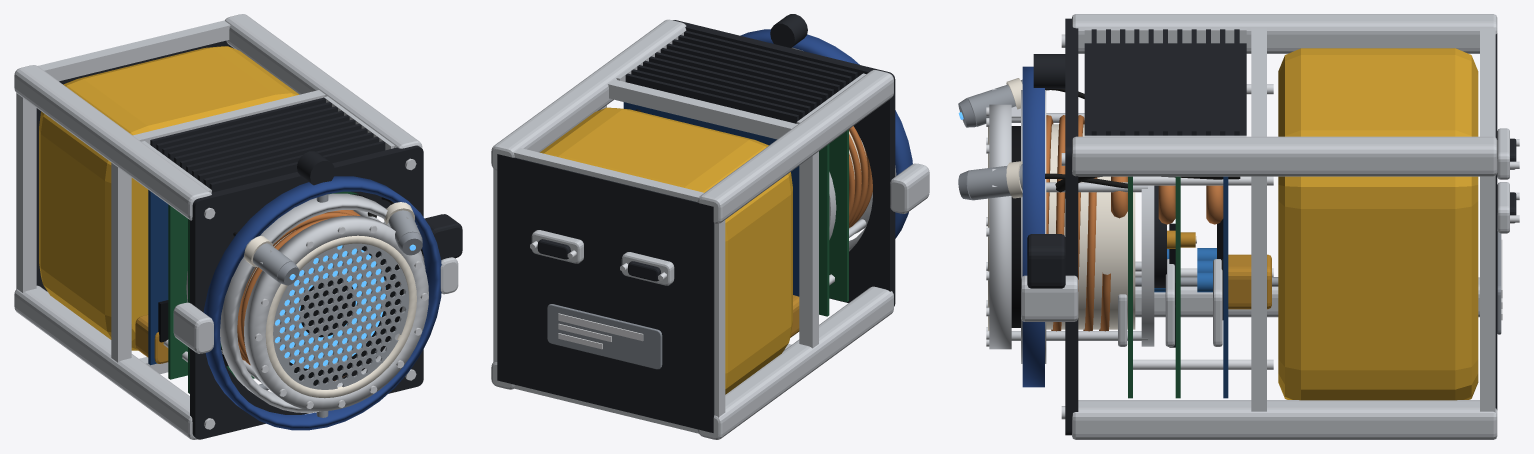
The model's file is prop-ion-large.glb.
3 views of the same model, side by side, from view 1: azimuth 30°, elevation 25°; view 2: azimuth 150°, elevation 25°; view 3: azimuth 270°, elevation 25° (orthographic). The views are drawn at different scales.
Parts seen in each view (by area): view 1: iodine-tank, front-plate, screen-grid, radiator-fins, gimbal-outer, flange, rail--11, rail--1-1, rail-11, gimbal-inner, frame-y-0-1, frame-y-1-1 (+18 smaller); view 2: back-plate, iodine-tank, radiator-fins, front-plate, rail--11, rail--1-1, rail-11, frame-y-1-1, frame-x-11, label-plate, ppu-board-2-board, frame-y-0-1 (+15 smaller); view 3: iodine-tank, rail-11, rail-1-1, rail--11, radiator-base, radiator-fins, discharge-chamber, gimbal-outer, flange, front-plate, frame-y-01, frame-y-11 (+26 smaller).
Boxes of the visible parts, x1,y1,x2,y2 form: iodine-tank: [39, 46, 299, 350]; front-plate: [190, 145, 423, 439]; screen-grid: [273, 243, 408, 389]; radiator-fins: [150, 97, 385, 192]; gimbal-outer: [203, 176, 441, 430]; flange: [244, 215, 428, 411]; rail--11: [14, 65, 211, 220]; rail--1-1: [14, 285, 197, 439]; rail-11: [225, 14, 422, 148]; gimbal-inner: [220, 193, 425, 412]; frame-y-0-1: [16, 93, 36, 292]; frame-y-1-1: [111, 163, 131, 362]; back-plate: [497, 154, 714, 432]; iodine-tank: [540, 107, 792, 394]; radiator-fins: [625, 30, 857, 123]; front-plate: [673, 20, 895, 306]; rail--11: [697, 70, 893, 223]; rail--1-1: [697, 286, 893, 439]; rail-11: [491, 19, 686, 170]; frame-y-1-1: [799, 151, 818, 348]; frame-x-11: [608, 79, 797, 139]; label-plate: [547, 304, 662, 369]; ppu-board-2-board: [829, 129, 848, 302]; frame-y-0-1: [714, 220, 725, 417]; iodine-tank: [1278, 48, 1478, 400]; rail-11: [1072, 136, 1497, 176]; rail-1-1: [1072, 400, 1497, 439]; rail--11: [1072, 14, 1497, 53]; radiator-base: [1084, 43, 1246, 135]; radiator-fins: [1091, 29, 1239, 135]; discharge-chamber: [1046, 124, 1135, 329]; gimbal-outer: [1022, 66, 1044, 387]; flange: [989, 104, 1011, 349]; front-plate: [1065, 18, 1078, 435]; frame-y-01: [1480, 175, 1495, 412]; frame-y-11: [1251, 176, 1266, 411].
Bounding box in the file's own units: 0.1184 × 0.1107 × 0.1767.
